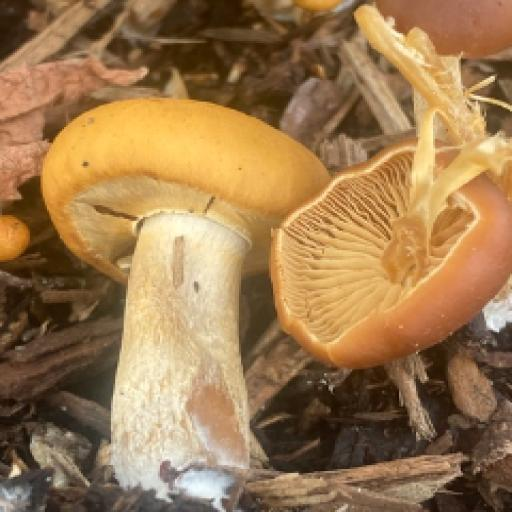mushroom: (44, 96, 329, 485), (264, 139, 510, 372)
